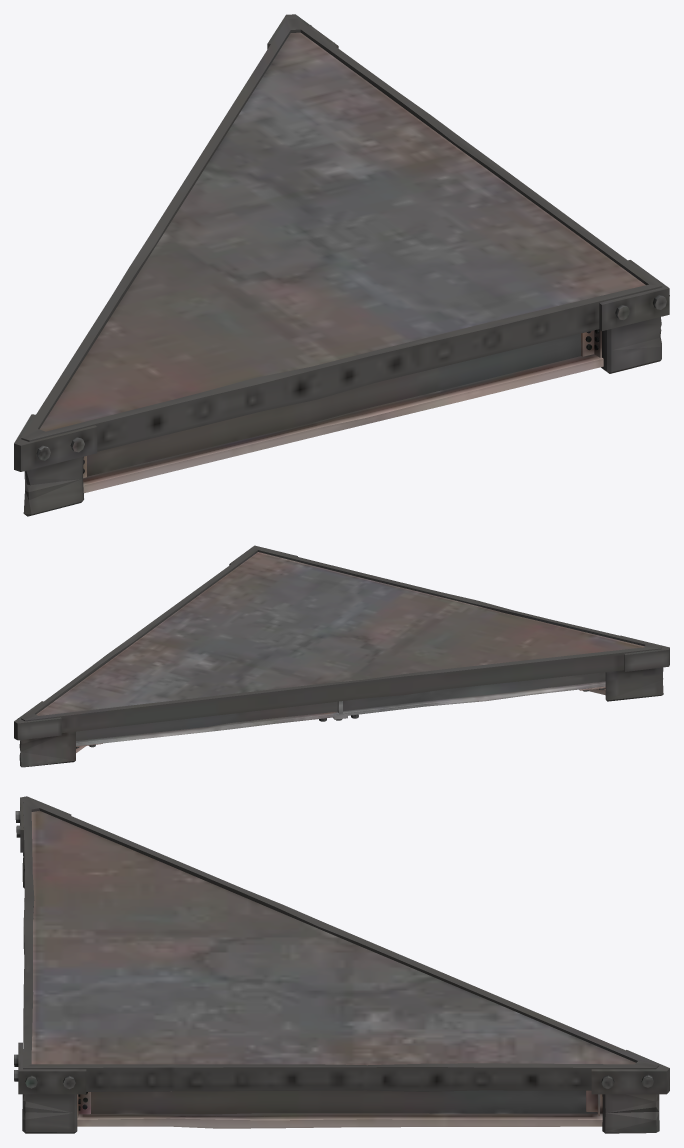
The model's file is SM_RoofTriangle_Iron_71aed1.glb.
3 renders of one model, top to bottom at view 1: azimuth 30°, elevation 25°; view 2: azimuth 150°, elevation 25°; view 3: azimuth 270°, elevation 25°, orthographic. The views are drawn at different scales.
Size of the model in its own units: 4.12 by 0.4701 by 4.12.
Materials: 1 (1 with a texture image).
